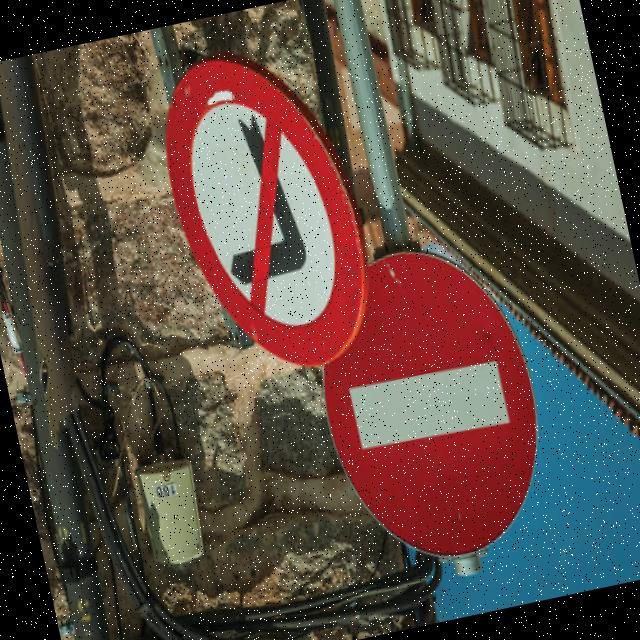do_not_turn_right: (128, 34, 392, 398)
